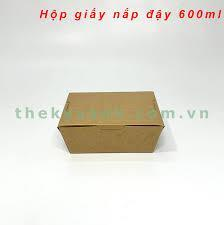box: (57, 91, 166, 153)
